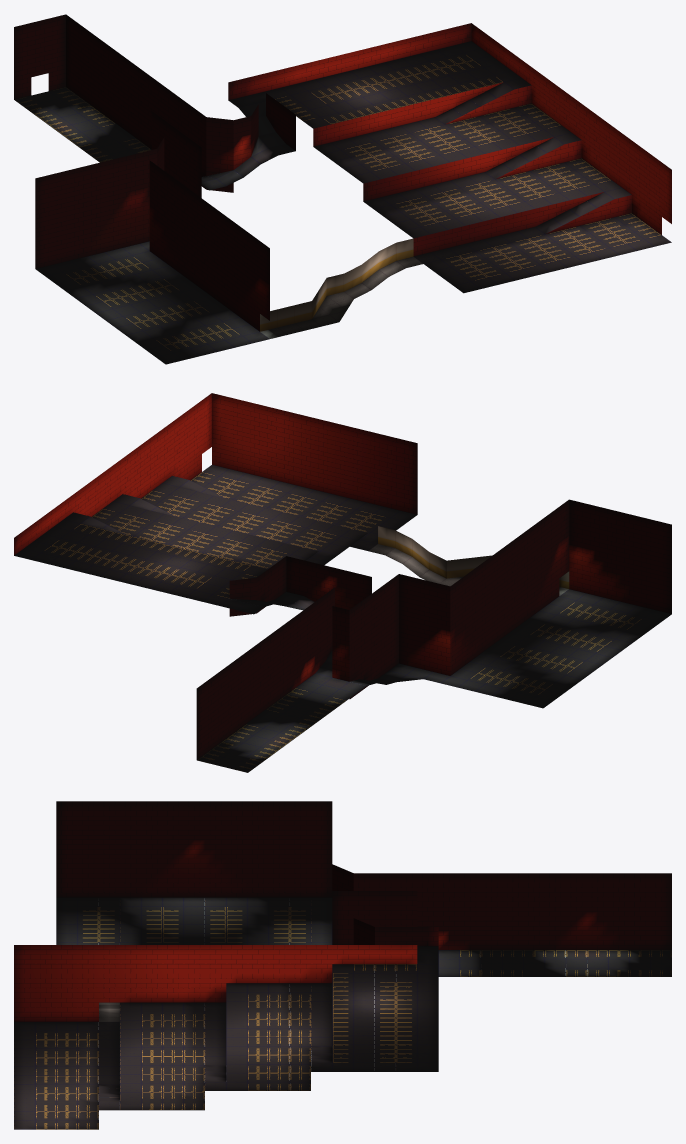
File: underground-3.gltf
The picture shows the model from 3 angles, top to bottom: view 1: azimuth 30°, elevation 25°; view 2: azimuth 150°, elevation 25°; view 3: azimuth 270°, elevation 25°; orthographic projection. The views are drawn at different scales.
Visible parts, largest first — view 1: default; view 2: default; view 3: default.
Boxes of the visible parts, left/top/right/bottom form: default: left=14, top=14, right=671, bottom=364; default: left=14, top=393, right=671, bottom=772; default: left=14, top=801, right=671, bottom=1129.
Size of the model in its own units: 224 by 40 by 248.
1 material, 1 textured.
